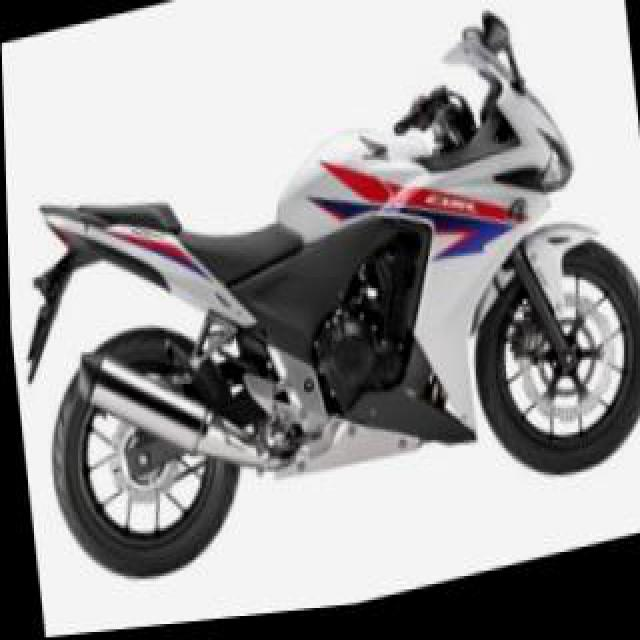CBR500R: (0, 3, 638, 613)
